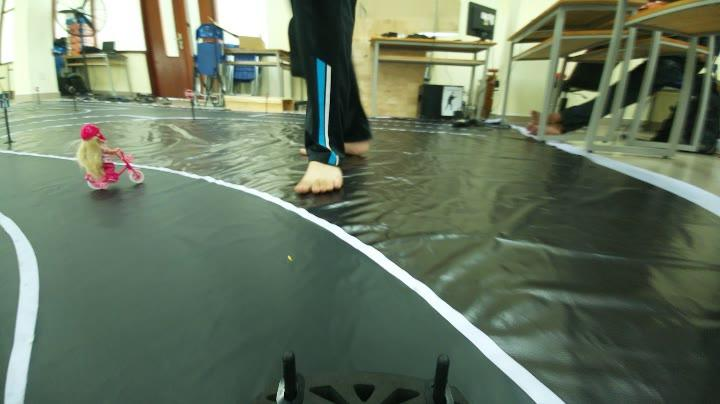pedestrian: (66, 124, 158, 193)
